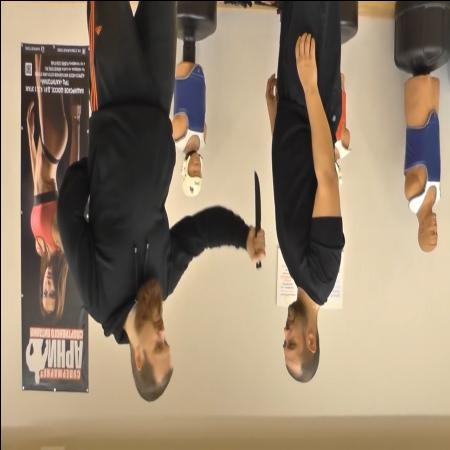long weapon: (248, 166, 266, 272)
